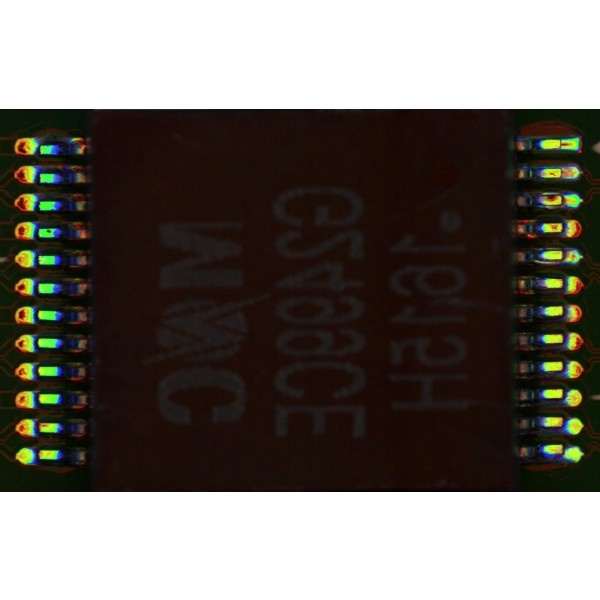Bad_podu: (555, 197, 571, 205), (552, 141, 570, 148), (553, 170, 567, 177)
Bad_qiaojiao: (534, 260, 564, 265)
